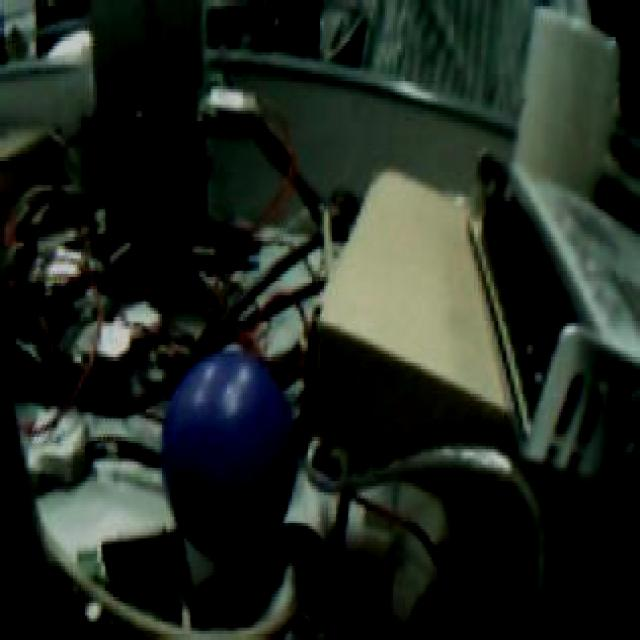BallPurple: (160, 351, 296, 553)
